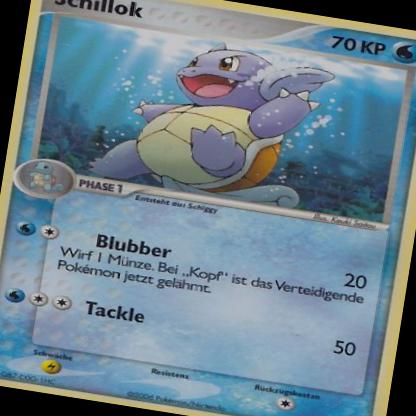Wartortle: (91, 29, 340, 213)
